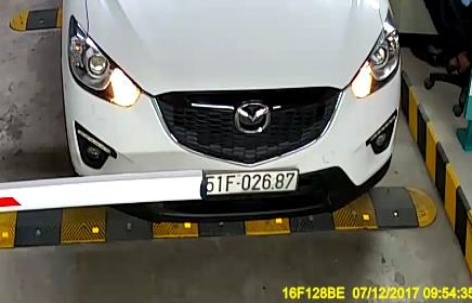plate: (204, 166, 301, 202)
